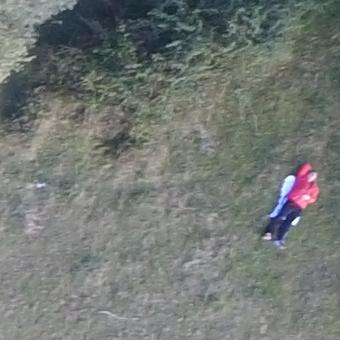human: (262, 163, 324, 246)
